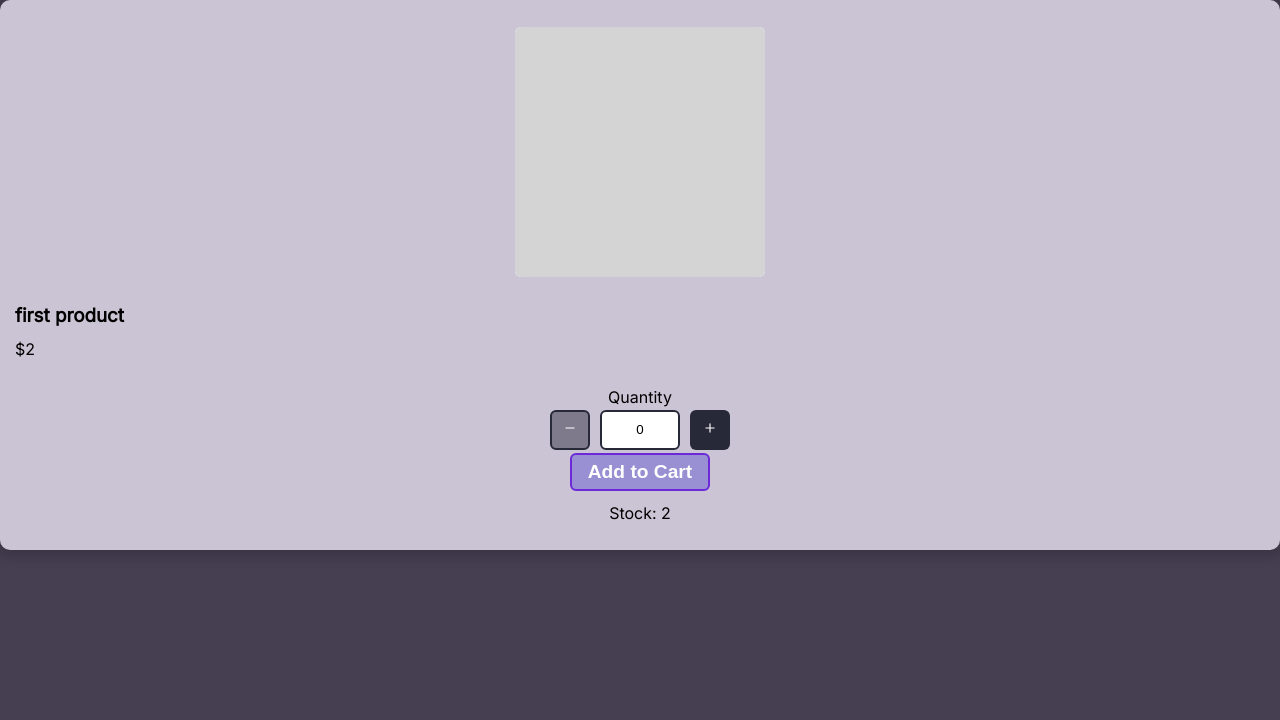
Test: Shop Item › shouldn't type more than what's available in stock
This screenshot has width=1280, height=720.
Step 1. Type "999" into the field → {"x": 640, "y": 430}, box [600, 410, 680, 450]
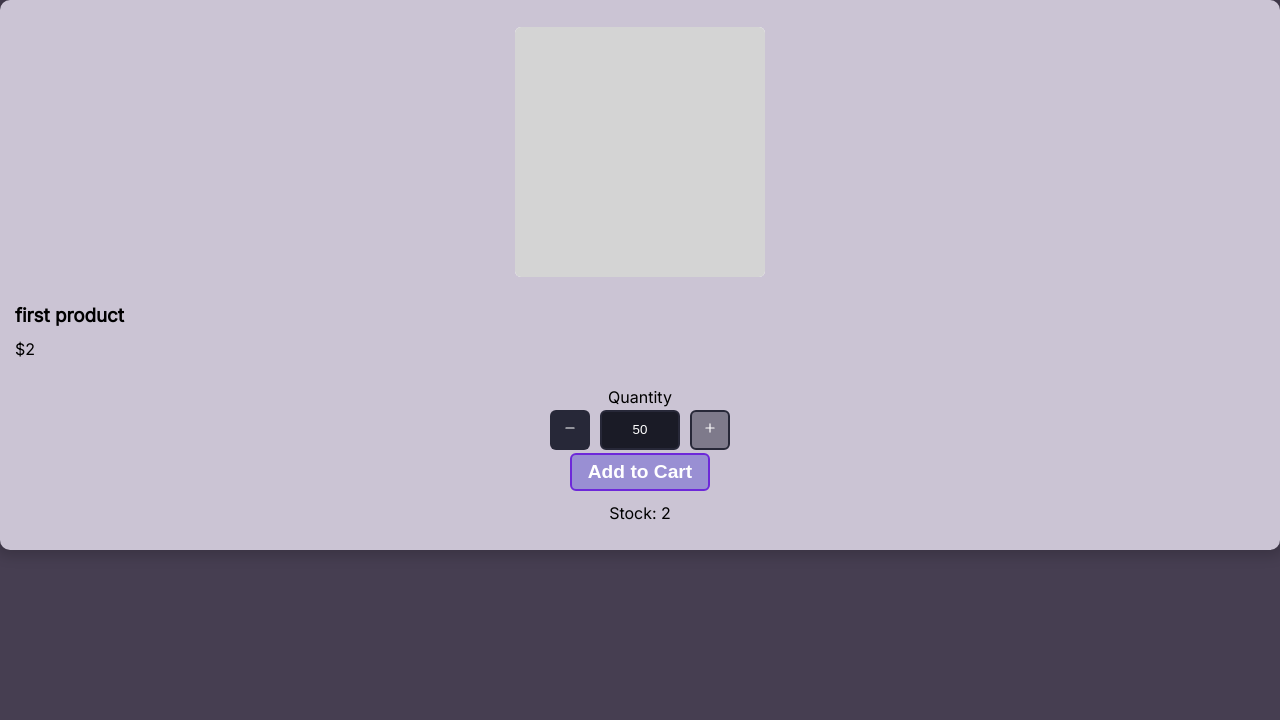
Check: the field holds "50", box [600, 410, 680, 450]
